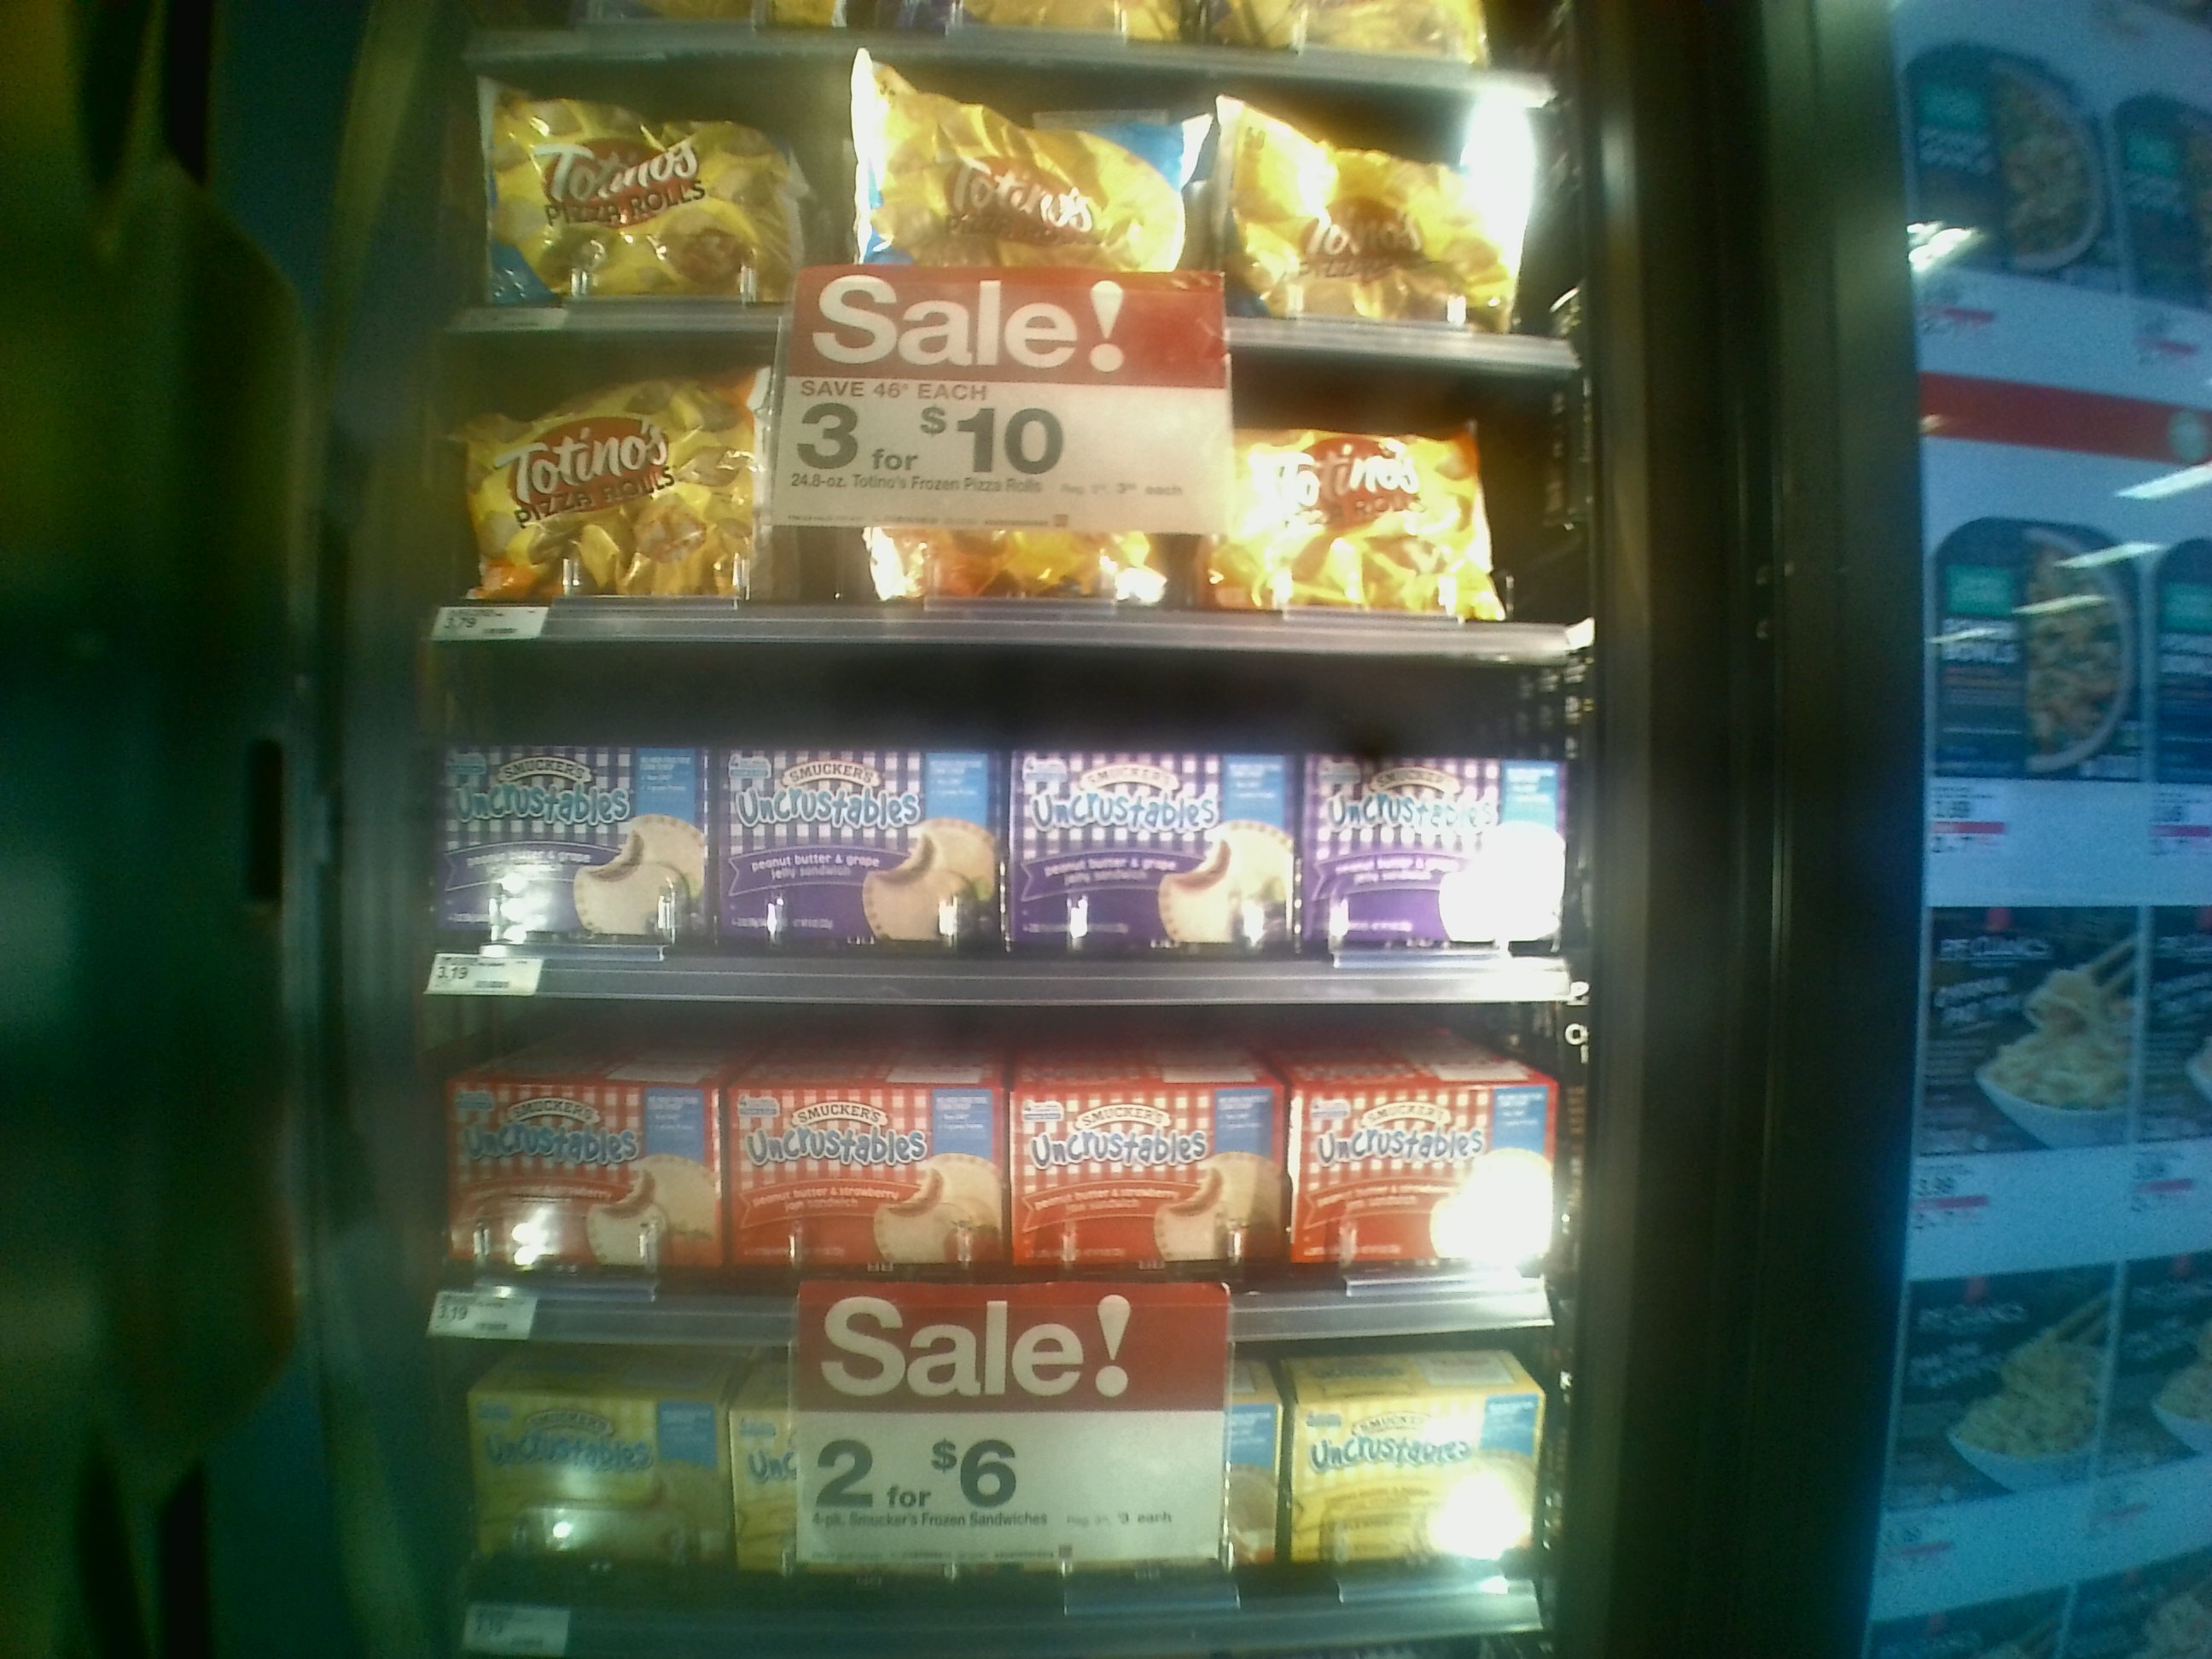shelf: (408, 638, 1592, 1018), (435, 286, 1597, 669), (404, 995, 1569, 1330)
